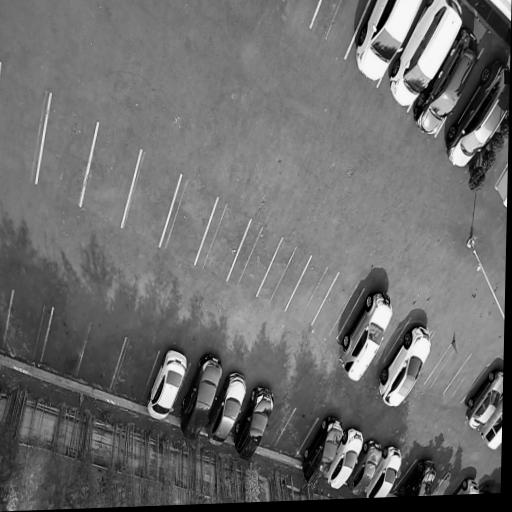Car: (381, 0, 470, 120), (407, 21, 486, 144), (438, 54, 510, 177), (334, 285, 400, 389), (349, 0, 424, 90), (373, 321, 437, 410), (173, 351, 227, 446), (229, 383, 281, 467), (203, 368, 253, 454), (141, 346, 193, 428), (296, 414, 348, 491), (458, 364, 503, 440), (324, 426, 368, 493), (346, 436, 385, 498), (364, 443, 406, 498), (393, 457, 439, 497), (475, 399, 503, 454), (452, 475, 481, 495)
Space Available: (36, 95, 99, 206), (81, 124, 141, 229), (0, 63, 51, 185), (122, 152, 183, 248), (160, 175, 219, 264), (195, 198, 251, 283), (227, 221, 282, 298), (256, 238, 312, 313), (285, 257, 339, 326), (310, 0, 370, 60), (3, 291, 53, 362), (312, 274, 364, 340), (76, 325, 127, 391), (41, 310, 91, 377), (110, 339, 159, 405), (424, 345, 472, 396), (442, 354, 490, 404), (374, 312, 412, 366), (274, 409, 318, 455), (259, 401, 295, 449), (416, 338, 451, 387), (389, 455, 417, 493), (0, 288, 13, 354), (431, 474, 463, 496)
